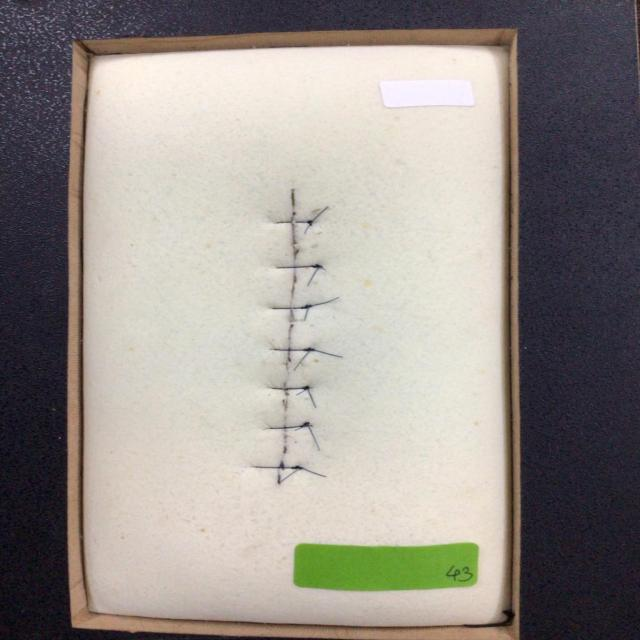knot: (299, 303, 316, 311), (289, 464, 306, 472), (309, 262, 325, 270), (298, 420, 312, 429), (301, 346, 317, 353), (300, 384, 312, 392), (305, 219, 315, 228)
leftover: (292, 349, 312, 372), (305, 424, 321, 452), (309, 205, 330, 223), (311, 348, 344, 359), (279, 467, 302, 482), (309, 296, 340, 307), (299, 466, 327, 478), (306, 266, 321, 287), (305, 386, 318, 409), (302, 305, 310, 322), (302, 223, 312, 235), (294, 388, 307, 396), (293, 425, 304, 431), (319, 265, 327, 271)
stitch: (277, 263, 321, 269), (271, 304, 312, 310), (268, 424, 308, 430), (254, 465, 302, 469), (270, 386, 312, 390), (273, 348, 313, 352), (276, 220, 312, 224)
wound: (276, 188, 297, 483)
